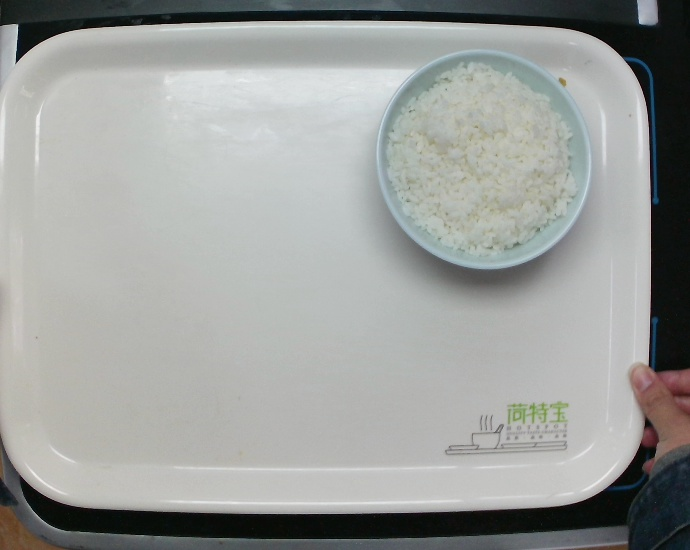JYsf-Fan_Wan: (374, 46, 594, 271)
